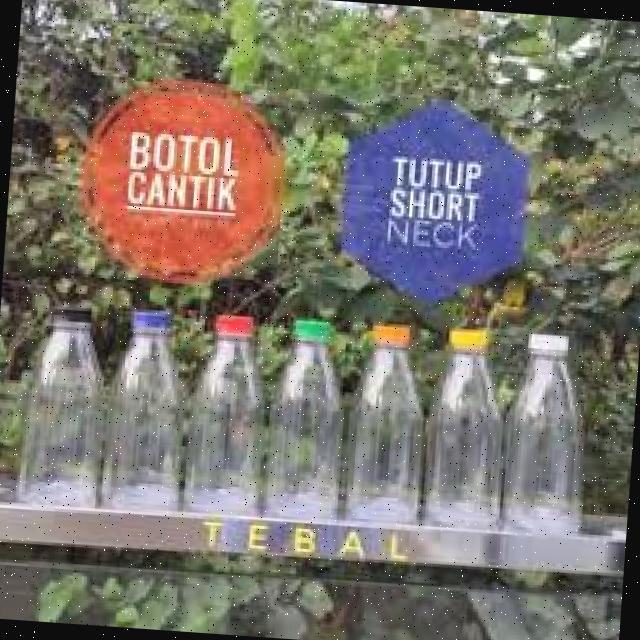bottle: (11, 279, 126, 519), (164, 304, 285, 532), (496, 313, 600, 552), (422, 314, 520, 556), (259, 302, 356, 536), (100, 293, 197, 521), (338, 319, 433, 548)
cap: (42, 301, 95, 331), (518, 332, 576, 358), (362, 320, 416, 347), (438, 328, 489, 354), (124, 308, 170, 336), (212, 312, 259, 339), (286, 320, 336, 344)
